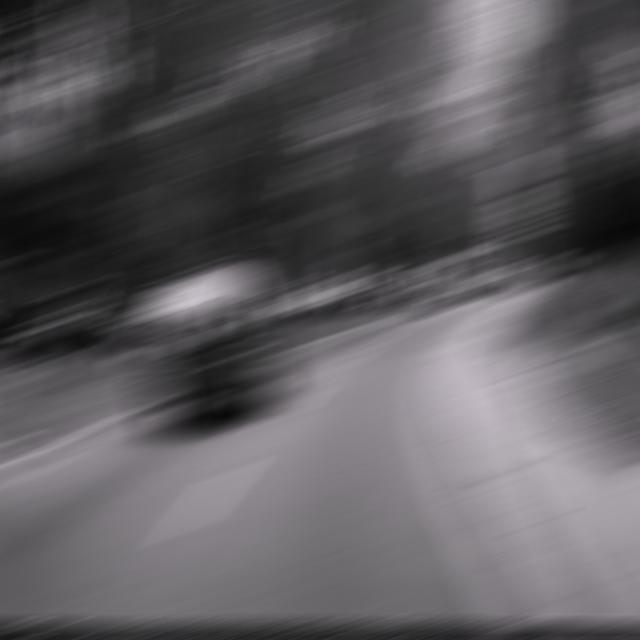speedLimit25: (499, 191, 543, 241)
